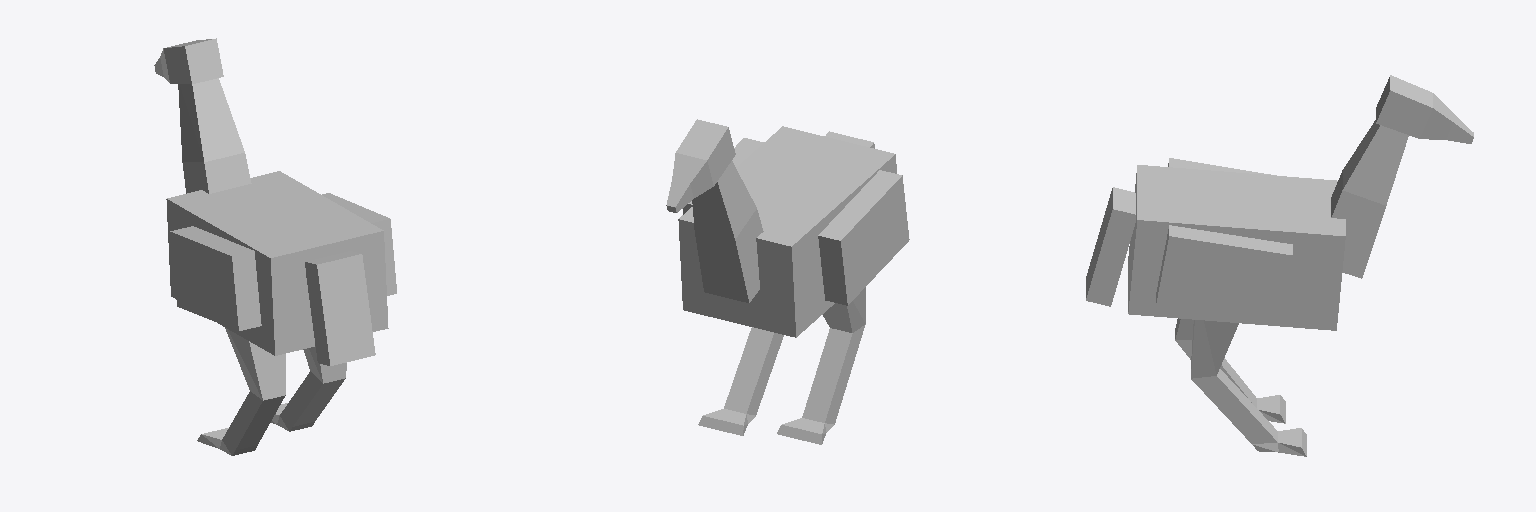
Rendered from Ostrich_000170.obj.
3 views of the same model, side by side, from view 1: azimuth 30°, elevation 25°; view 2: azimuth 150°, elevation 25°; view 3: azimuth 270°, elevation 25° (orthographic).
Visible parts, largest first — view 1: Cube_Cube.001; view 2: Cube_Cube.001; view 3: Cube_Cube.001.
Boxes of the visible parts, box(x1,y1,x2,y2) form: Cube_Cube.001: box(154, 38, 396, 455); Cube_Cube.001: box(666, 119, 909, 444); Cube_Cube.001: box(1086, 75, 1473, 456).
Bounding box in the file's own units: 0.7 × 1.46 × 1.49.